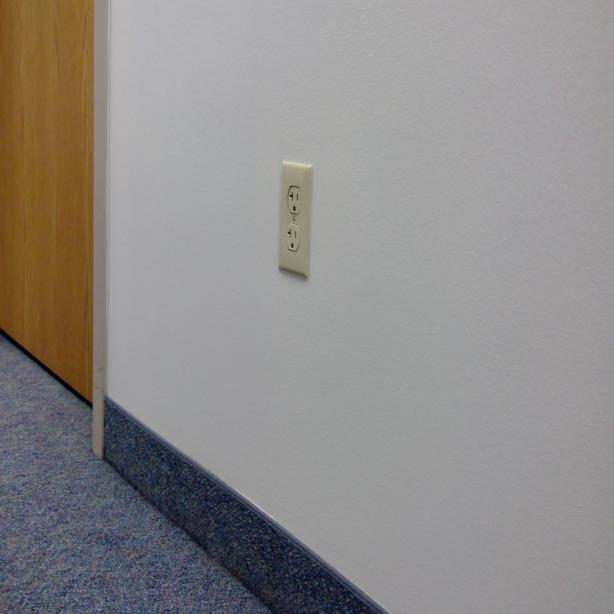typeb: (288, 184, 302, 213), (287, 225, 299, 251)
